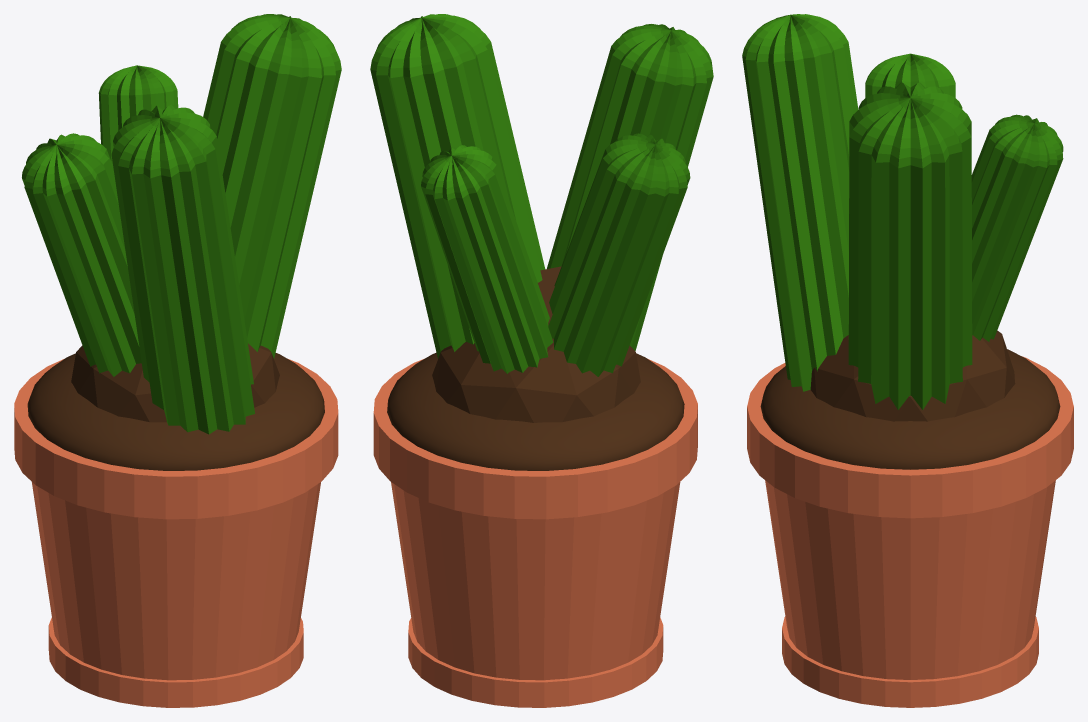
The model's file is Cactus3.fbx.
3 renders of one model, left to right at view 1: azimuth 30°, elevation 25°; view 2: azimuth 150°, elevation 25°; view 3: azimuth 270°, elevation 25°, orthographic.
Visible parts, largest first — view 1: Vase.002, Sphere.009, Sphere.005, Sphere.007, Sphere.004, Icosphere.002, Sphere.008; view 2: Vase.002, Sphere.005, Sphere.007, Sphere.008, Sphere.004, Sphere.009, Icosphere.002; view 3: Vase.002, Sphere.005, Sphere.009, Sphere.004, Sphere.008, Icosphere.002, Sphere.007.
Boxes of the visible parts, <box> form: Vase.002: <box>14,358,338,707</box>; Sphere.009: <box>111,104,254,434</box>; Sphere.005: <box>203,14,341,358</box>; Sphere.007: <box>22,133,141,376</box>; Sphere.004: <box>27,353,324,470</box>; Icosphere.002: <box>71,343,279,422</box>; Sphere.008: <box>98,65,178,165</box>; Vase.002: <box>373,358,697,707</box>; Sphere.005: <box>370,14,545,358</box>; Sphere.007: <box>548,133,690,376</box>; Sphere.008: <box>421,145,553,373</box>; Sphere.004: <box>387,352,684,470</box>; Sphere.009: <box>547,24,713,350</box>; Icosphere.002: <box>432,266,640,422</box>; Vase.002: <box>747,356,1073,707</box>; Sphere.005: <box>848,82,972,409</box>; Sphere.009: <box>742,14,858,391</box>; Sphere.004: <box>760,349,1060,469</box>; Sphere.008: <box>971,114,1063,341</box>; Icosphere.002: <box>810,330,1015,421</box>; Sphere.007: <box>865,53,955,97</box>.
Bounding box in the file's own units: 235 × 450 × 221.
